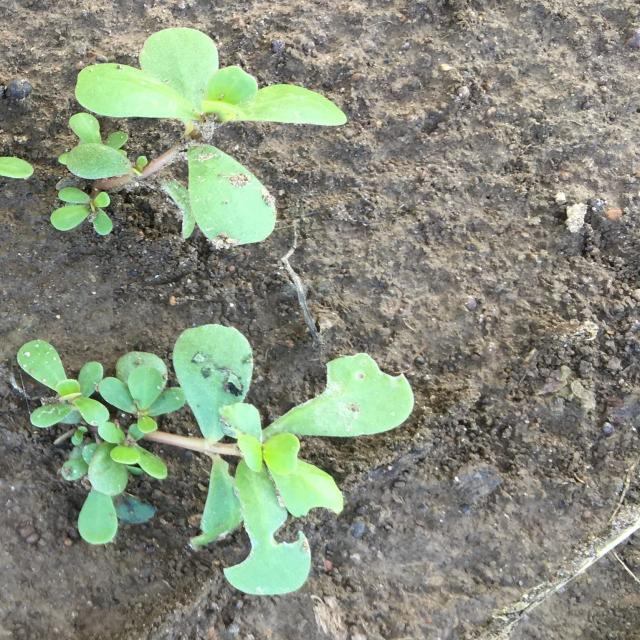Purslane: (17, 324, 414, 595), (50, 28, 348, 246)
